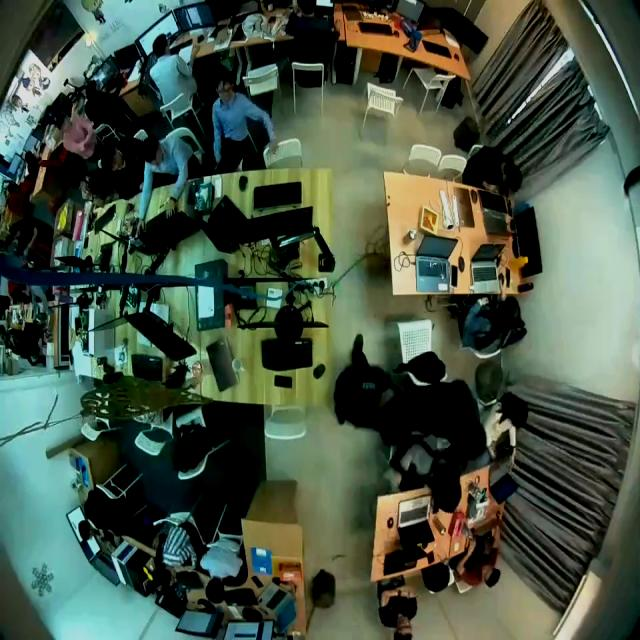staff-tag: (363, 382, 376, 391)
